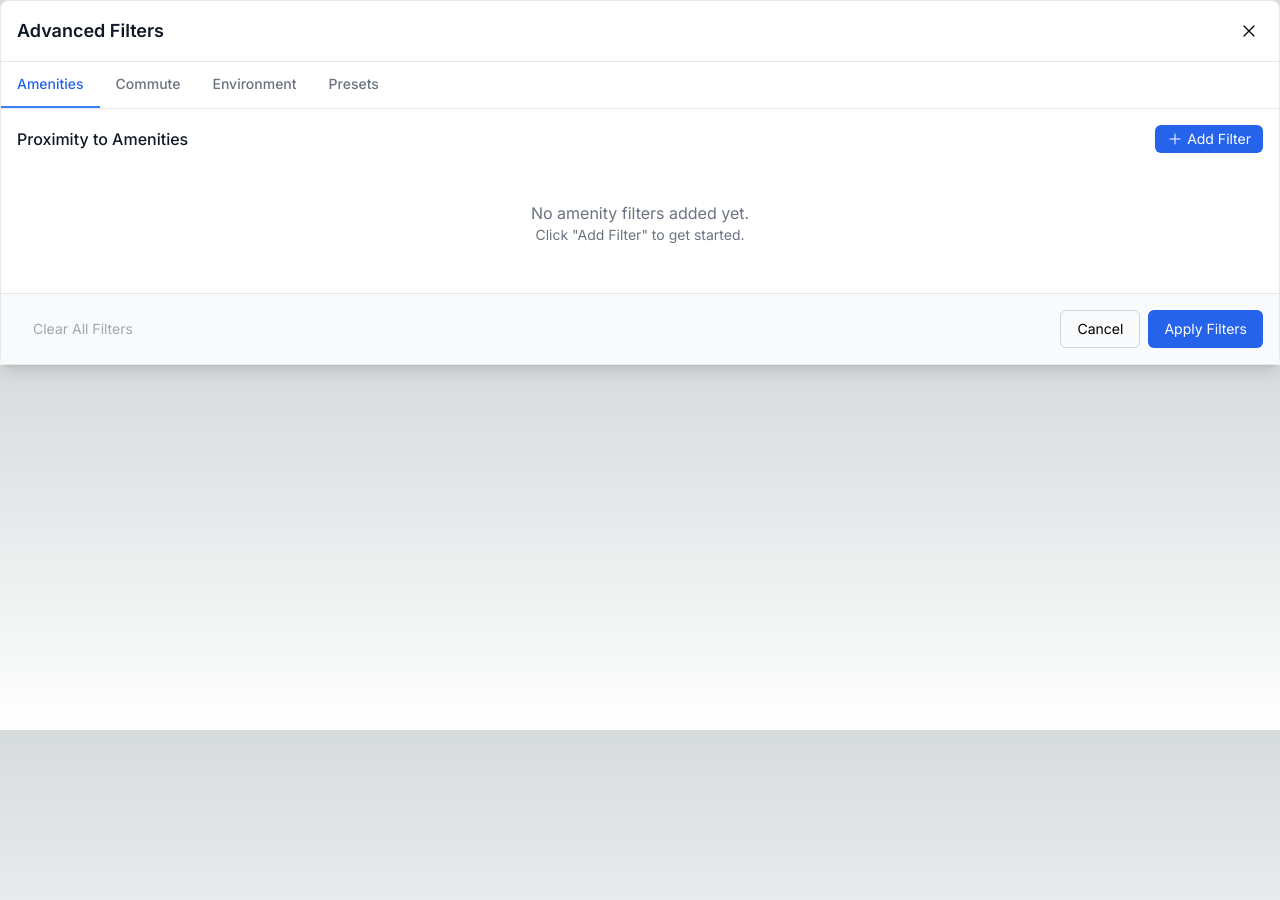
Test: AdvancedFilters › Tab Navigation › switches between tabs
Expected: the element with test id "amenities-tab" is shown, [17, 125, 1263, 277]
Note: Switch to commute tab
Click the button with test id "tab-commute": (148, 85) [100, 62, 196, 108]
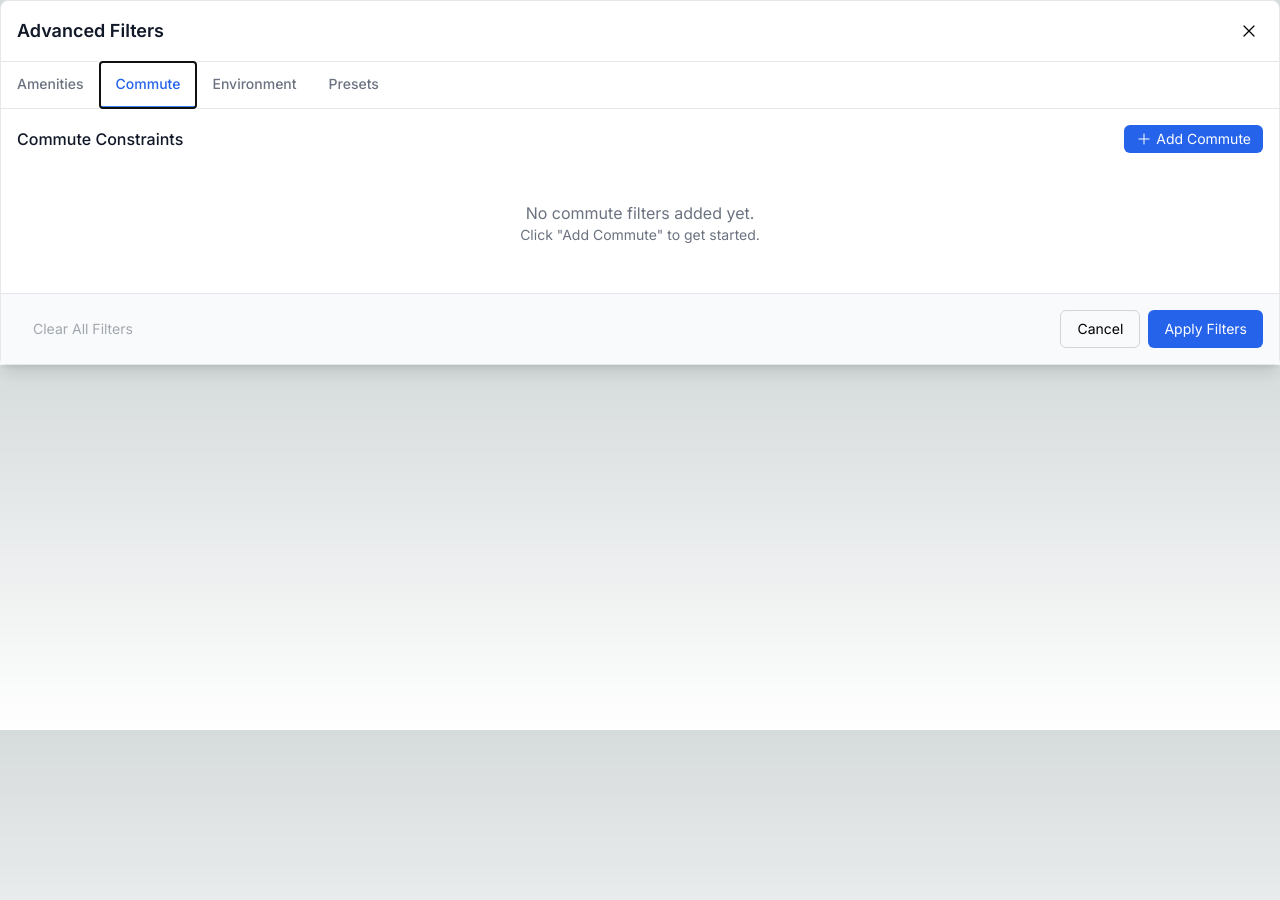
Now the element with test id "commute-tab" is shown, box [17, 125, 1263, 277]
Note: Switch to environment tab
Click the button with test id "tab-environment": (255, 85) [196, 62, 313, 108]
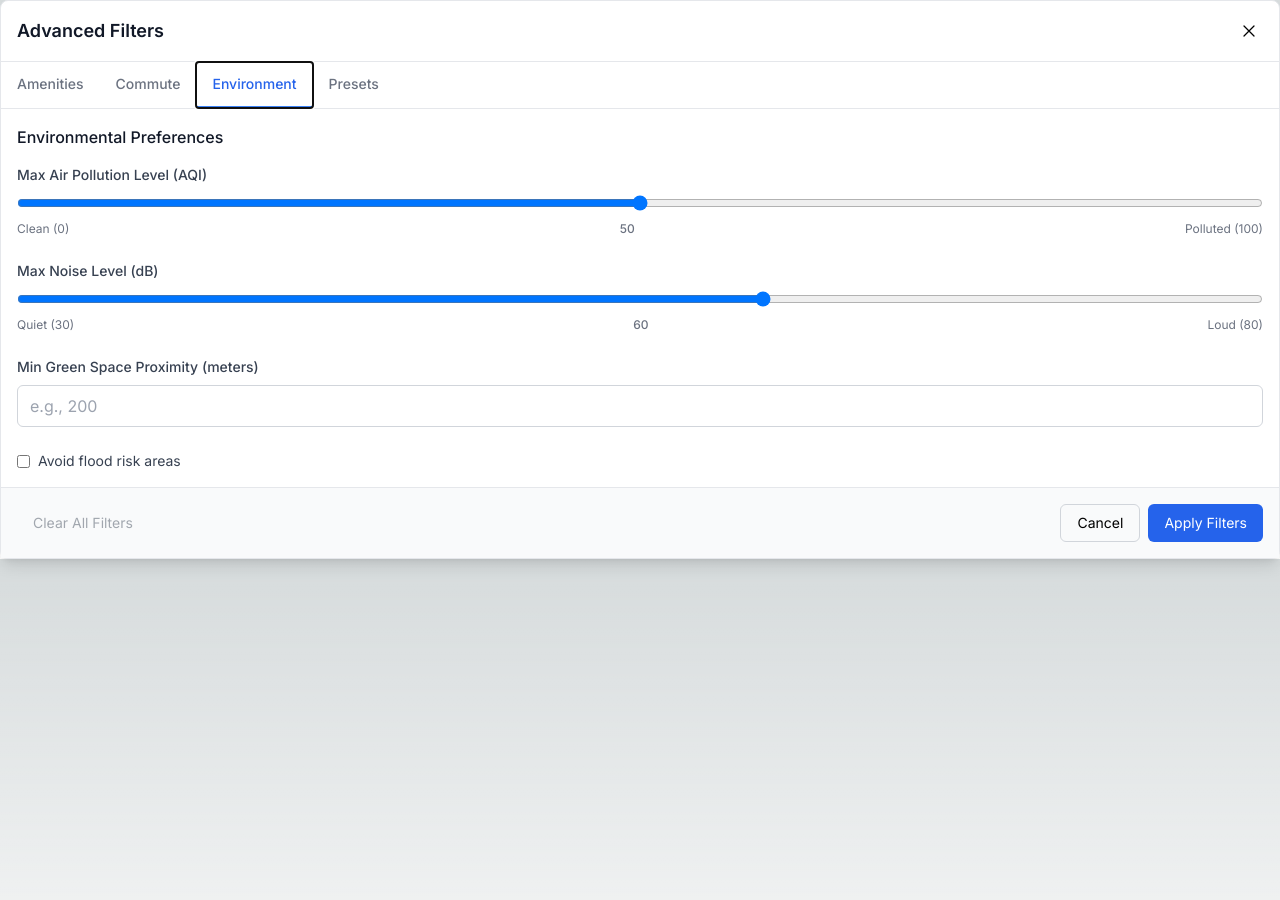
Now the element with test id "environment-tab" is shown, box [17, 125, 1263, 471]
Note: Switch to presets tab
Click the button with test id "tab-presets": (354, 85) [313, 62, 395, 108]
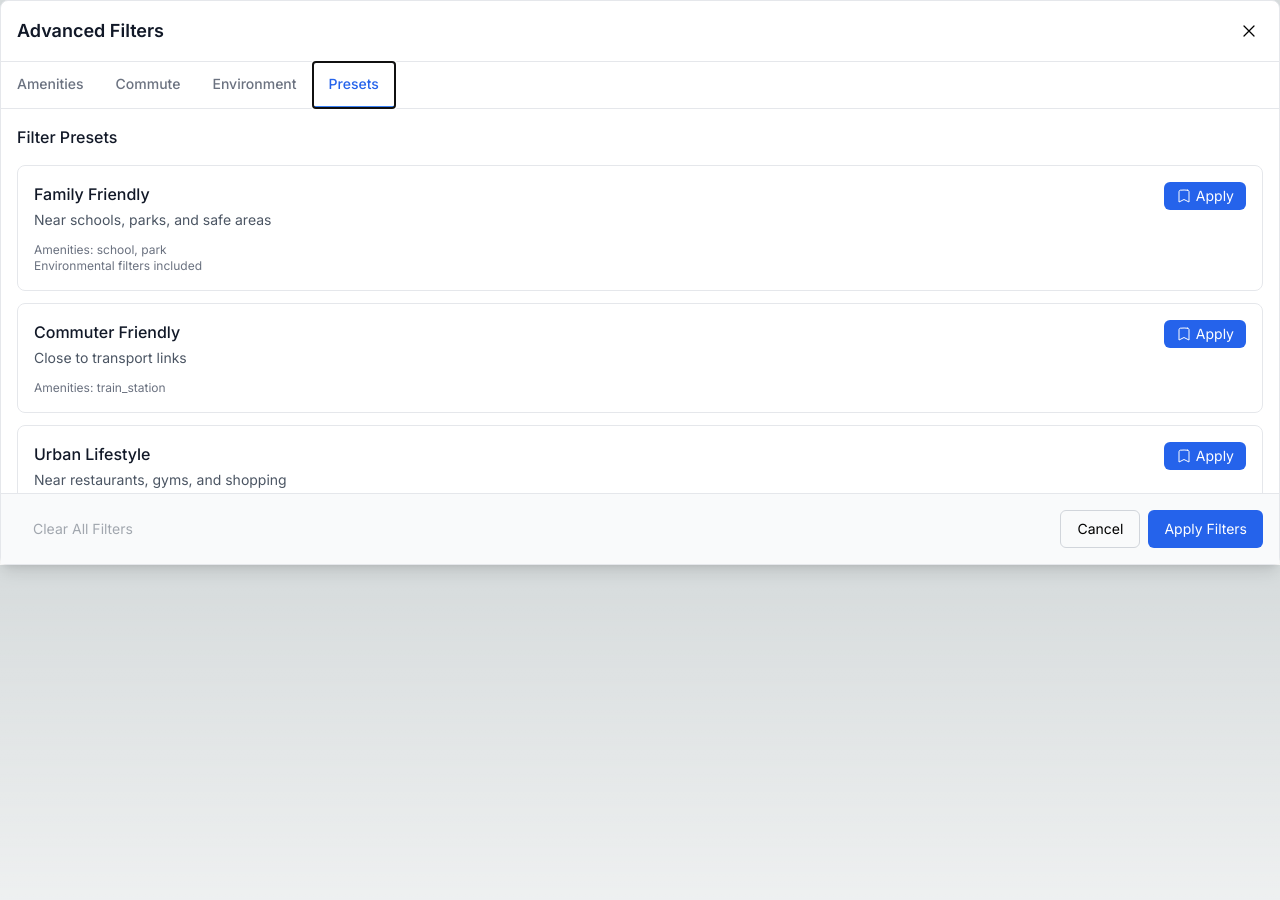
Now the element with test id "presets-tab" is shown, box [17, 125, 1263, 493]
